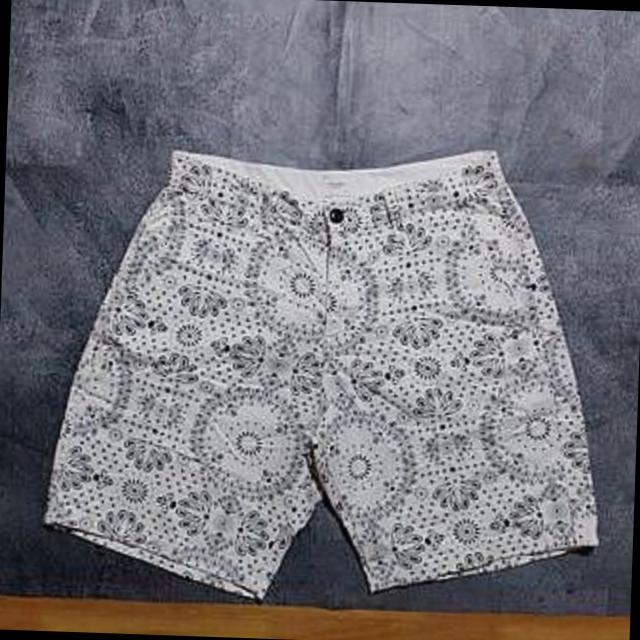SHORT: (33, 127, 618, 612)
